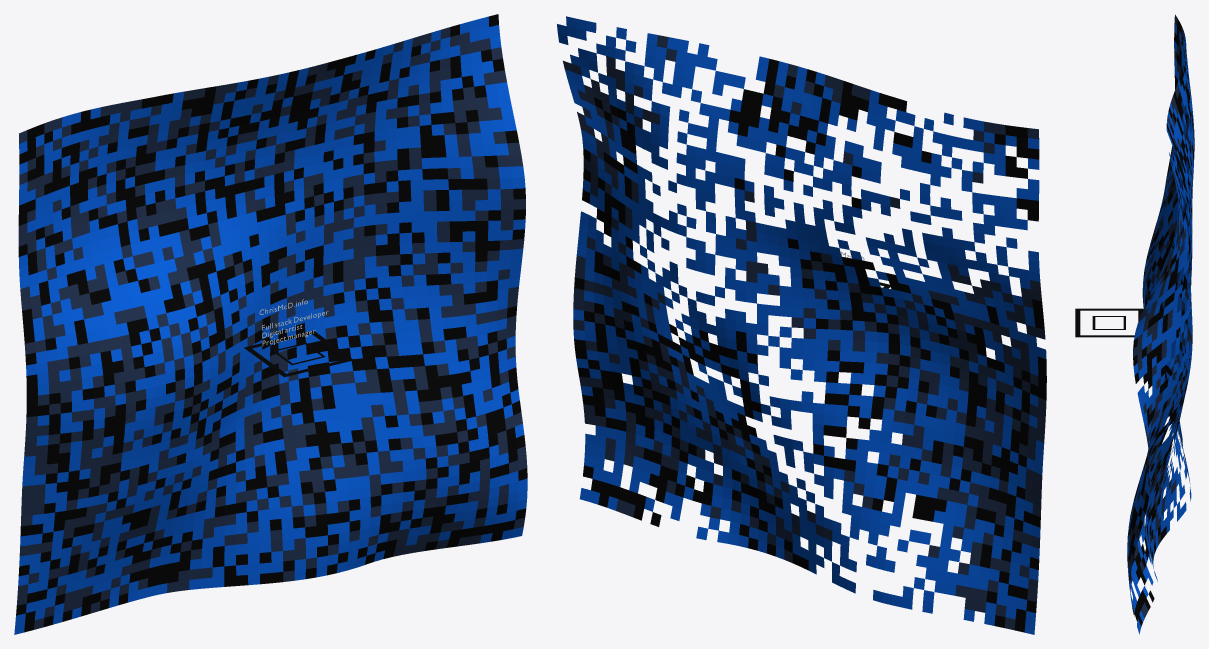
The model's file is frame.glb.
3 renders of one model, left to right at view 1: azimuth 30°, elevation 25°; view 2: azimuth 150°, elevation 25°; view 3: azimuth 270°, elevation 25°, orthographic. The views are drawn at different scales.
Visible parts, largest first — view 1: Plane, frame1; view 2: Plane; view 3: Plane, frame1.
Boxes of the visible parts, bbox=[...] form: Plane: bbox=[14, 14, 527, 634]; frame1: bbox=[244, 331, 353, 377]; Plane: bbox=[557, 16, 1046, 634]; Plane: bbox=[1127, 14, 1194, 634]; frame1: bbox=[1075, 308, 1143, 337].
Size of the model in its own units: 64.31 by 64.31 by 16.41.
